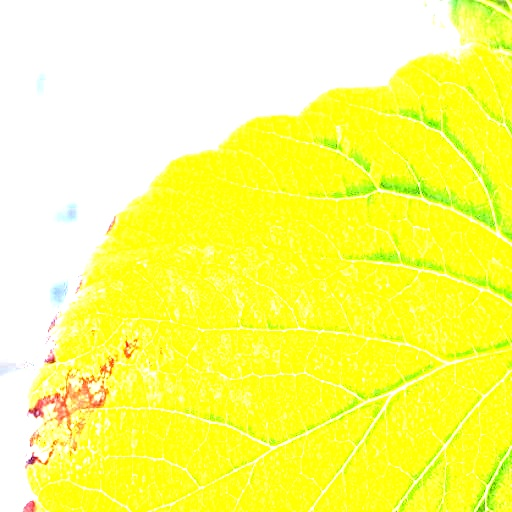Angular Leafspot: (18, 70, 511, 511)
